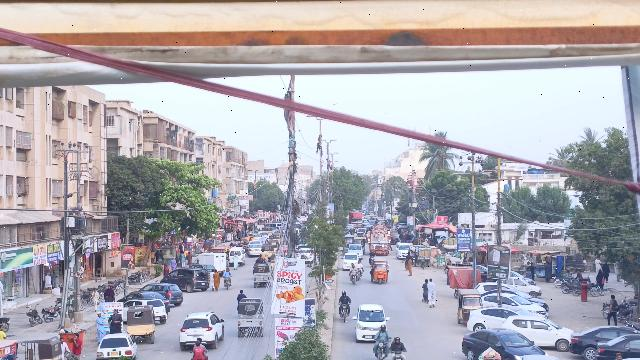Bike: (373, 338, 390, 359), (337, 303, 352, 321), (389, 349, 408, 360), (223, 275, 234, 291), (349, 271, 360, 285)
Bus: (366, 224, 392, 256)
Car: (459, 326, 537, 360), (504, 313, 572, 349), (567, 324, 632, 358), (178, 311, 224, 351), (466, 304, 524, 331), (353, 301, 390, 343), (594, 331, 640, 360), (160, 267, 211, 293), (95, 332, 138, 359)
Person: (92, 308, 109, 342), (108, 308, 122, 335), (373, 324, 391, 343), (606, 294, 618, 322), (426, 274, 436, 307), (389, 336, 407, 354), (103, 281, 115, 305), (419, 278, 430, 302), (89, 287, 100, 310), (212, 269, 222, 292), (338, 291, 353, 305), (223, 267, 232, 278), (350, 263, 359, 273)
Rickshaw: (126, 304, 157, 343), (236, 297, 264, 338), (455, 286, 481, 326), (369, 255, 390, 284), (251, 264, 272, 287)
Truck: (194, 251, 228, 273)
